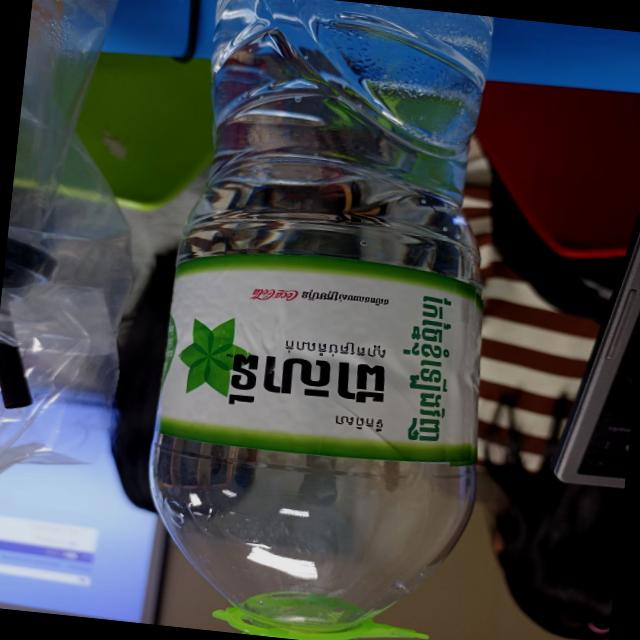Yolov11_80vkh: (221, 350, 389, 419), (395, 288, 465, 447), (279, 335, 387, 361), (298, 285, 391, 309), (332, 412, 387, 435)
